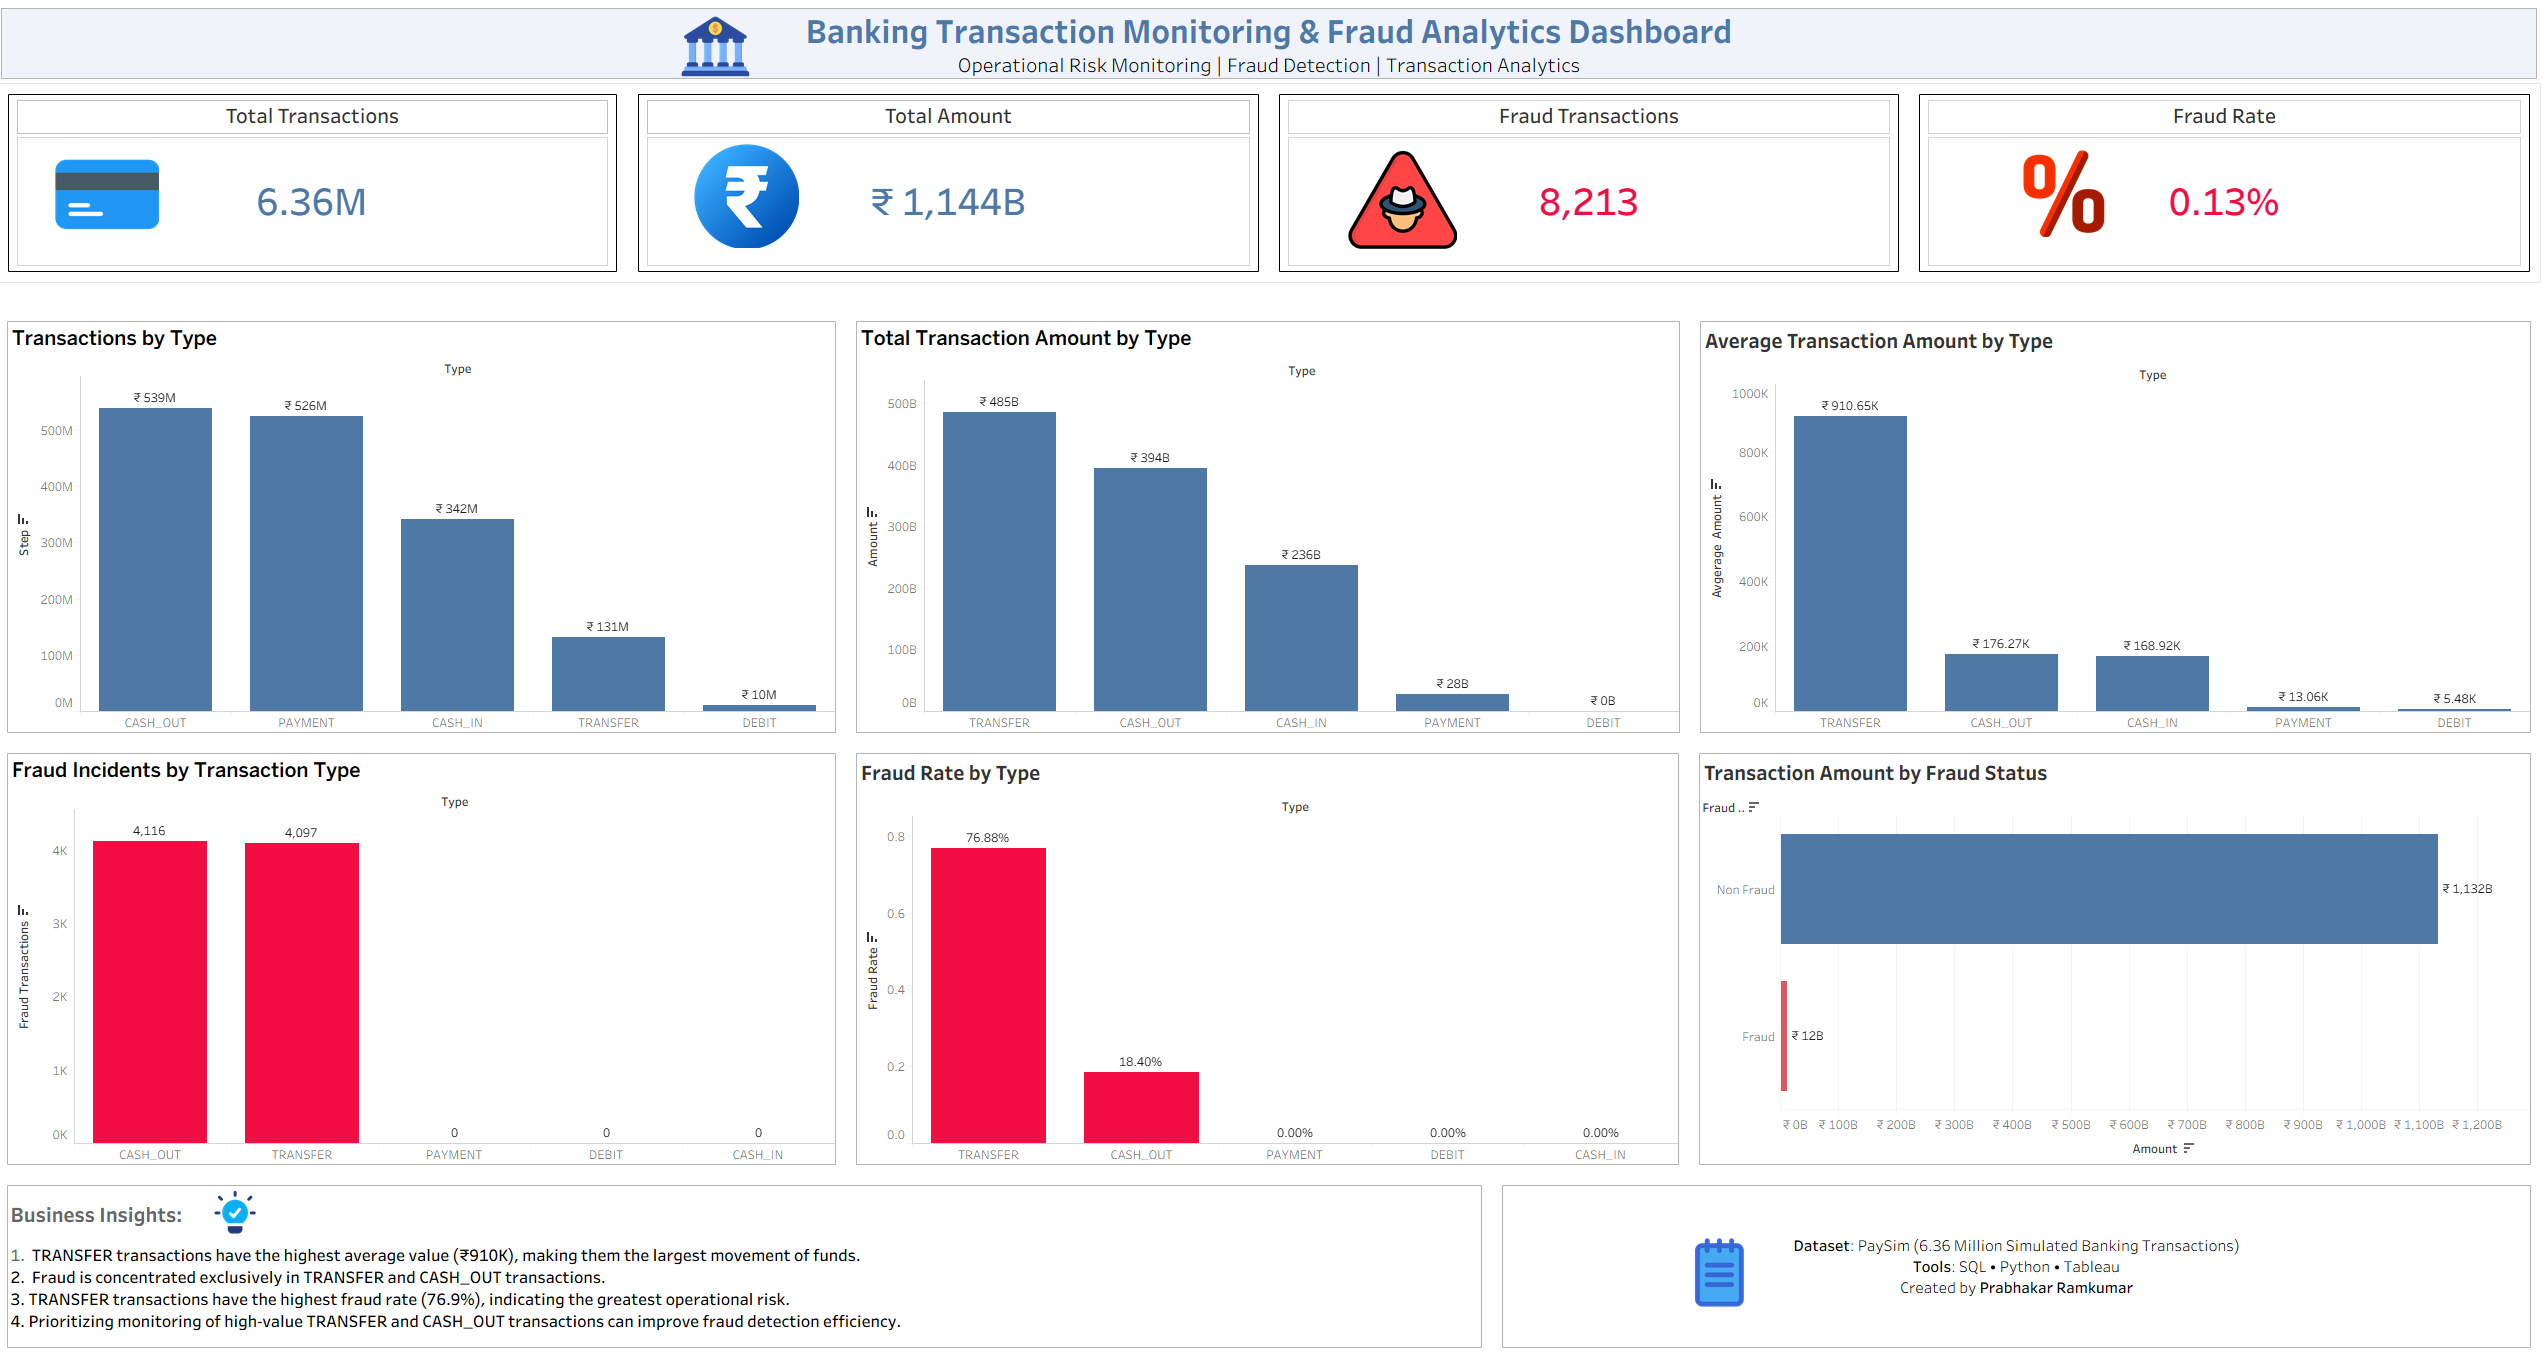

The dashboard page shown, as its layout file describes it:
{"tool":"tableau","page":{"name":"Dashboard 1","canvas":[1000,1000],"units":"permille","ordinal":0},"visuals":[{"type":"title","box":[3.4,6.6,993.2,65]},{"type":"image","param":"C:/Users/share/Downloads/bank.png","box":[269.4,9.9,47.6,52.6]},{"type":"worksheet","title":"Total Transactions","mark":"Automatic","box":[3.8,72.4,245.7,162.8]},{"type":"worksheet","title":"Total Amount","mark":"Automatic","box":[249.6,72.4,250.4,162.8]},{"type":"worksheet","title":"Fraud Transactions","mark":"Automatic","box":[500,72.4,249.7,162.8]},{"type":"worksheet","title":"Fraud Rate","mark":"Automatic","box":[749.7,72.4,246.5,162.8]},{"type":"image","param":"C:/Users/share/Downloads/credit-card.png","box":[25.9,106.9,56.5,75.7]},{"type":"image","param":"C:/Users/share/Downloads/rupee-sign.png","box":[270.3,107.7,51,76.5]},{"type":"image","param":"C:/Users/share/Downloads/fraud.png","box":[530.4,108.5,43.4,79.8]},{"type":"image","param":"C:/Users/share/Downloads/discount.png","box":[793.5,112.7,34,76.5]},{"type":"worksheet","title":"Transaction Count by Type","mark":"Automatic","rows":["step"],"cols":["type"],"box":[3.4,259.1,331.4,285.9]},{"type":"worksheet","title":"Total Transaction Amount by Type","mark":"Automatic","rows":["amount"],"cols":["type"],"box":[334.9,259.1,329.3,285.9]},{"type":"worksheet","title":"Average Transaction Amount by Type","mark":"Automatic","rows":["amount"],"cols":["type"],"box":[664.2,259.1,332.3,285.9]},{"type":"worksheet","title":"Fraud Count by Type","mark":"Automatic","rows":["isFraud"],"cols":["type"],"box":[3.4,544.9,331.4,315]},{"type":"worksheet","title":"Fraud Rate by Type","mark":"Automatic","rows":["Calculation_3321686222858407939"],"cols":["type"],"box":[334.8,544.9,329.3,315]},{"type":"worksheet","title":"Transaction Amount by Fraud Status","mark":"Automatic","rows":["Calculation_3321686222848155648"],"cols":["amount"],"box":[664,544.9,332.6,315]},{"type":"text","box":[3.4,859.9,583.8,133.5]},{"type":"text","box":[587.2,859.9,409.4,133.5]},{"type":"image","param":"C:/Users/share/Downloads/idea.png","box":[86.7,870.9,18.7,34.5]},{"type":"image","param":"C:/Users/share/Downloads/notes.png","box":[660.4,902.1,30.6,59.2]}]}

Visuals, with their boxes on the dashboard's canvas, which has no fixed pixel size, in thousandths of its width and height (x1, y1, x2, y2). These are canvas units, not pixel positions in the 2546x1364 screenshot, which may show the page scaled, cropped or inside an application window:
title: pyautogui.locateOnScreen(3, 7, 997, 72)
image: pyautogui.locateOnScreen(269, 10, 317, 62)
"Total Transactions" worksheet: pyautogui.locateOnScreen(4, 72, 250, 235)
"Total Amount" worksheet: pyautogui.locateOnScreen(250, 72, 500, 235)
"Fraud Transactions" worksheet: pyautogui.locateOnScreen(500, 72, 750, 235)
"Fraud Rate" worksheet: pyautogui.locateOnScreen(750, 72, 996, 235)
image: pyautogui.locateOnScreen(26, 107, 82, 183)
image: pyautogui.locateOnScreen(270, 108, 321, 184)
image: pyautogui.locateOnScreen(530, 108, 574, 188)
image: pyautogui.locateOnScreen(794, 113, 828, 189)
"Transaction Count by Type" worksheet: pyautogui.locateOnScreen(3, 259, 335, 545)
"Total Transaction Amount by Type" worksheet: pyautogui.locateOnScreen(335, 259, 664, 545)
"Average Transaction Amount by Type" worksheet: pyautogui.locateOnScreen(664, 259, 996, 545)
"Fraud Count by Type" worksheet: pyautogui.locateOnScreen(3, 545, 335, 860)
"Fraud Rate by Type" worksheet: pyautogui.locateOnScreen(335, 545, 664, 860)
"Transaction Amount by Fraud Status" worksheet: pyautogui.locateOnScreen(664, 545, 997, 860)
text: pyautogui.locateOnScreen(3, 860, 587, 993)
text: pyautogui.locateOnScreen(587, 860, 997, 993)
image: pyautogui.locateOnScreen(87, 871, 105, 905)
image: pyautogui.locateOnScreen(660, 902, 691, 961)
